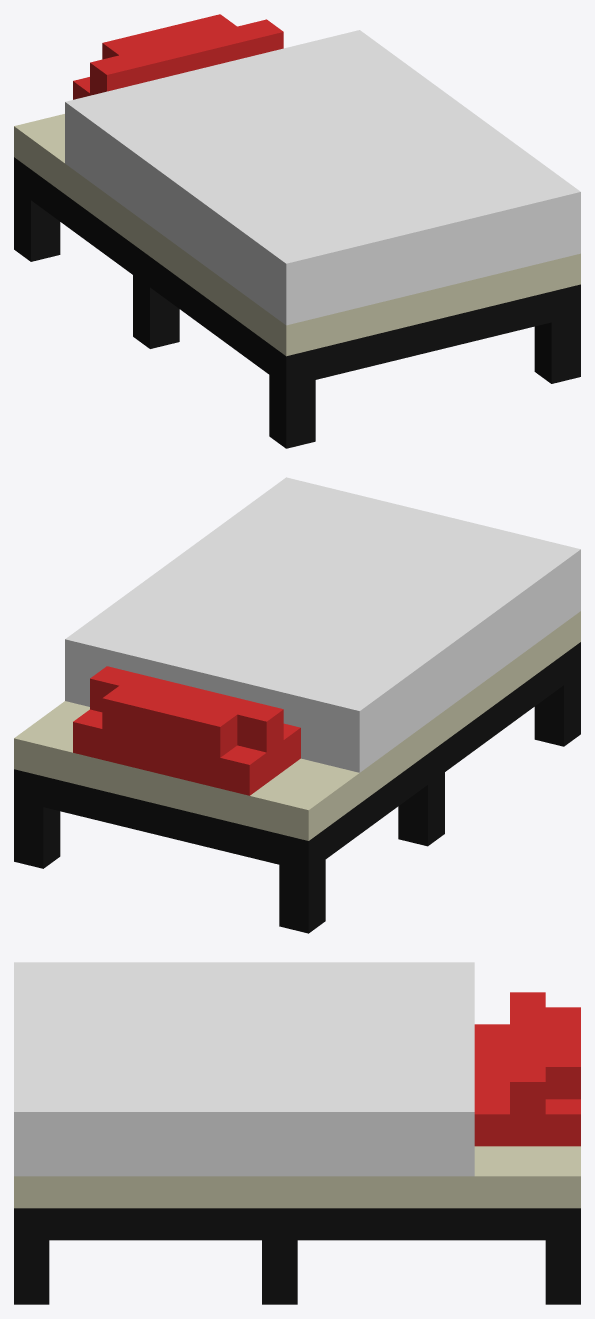
The model's file is Bed.fbx.
3 views of the same model, one above another, from view 1: azimuth 30°, elevation 25°; view 2: azimuth 150°, elevation 25°; view 3: azimuth 270°, elevation 25° (orthographic). The views are drawn at different scales.
Visible parts, largest first — view 1: Bed; view 2: Bed; view 3: Bed.
Boxes of the visible parts, x1,y1,x2,y2 form: Bed: [14, 14, 580, 448]; Bed: [14, 477, 580, 933]; Bed: [14, 962, 580, 1304].
Bounding box in the file's own units: 1004 × 602 × 1606.
